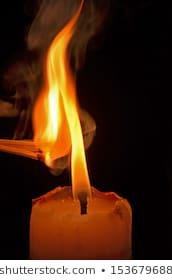fire: (36, 0, 91, 159)
